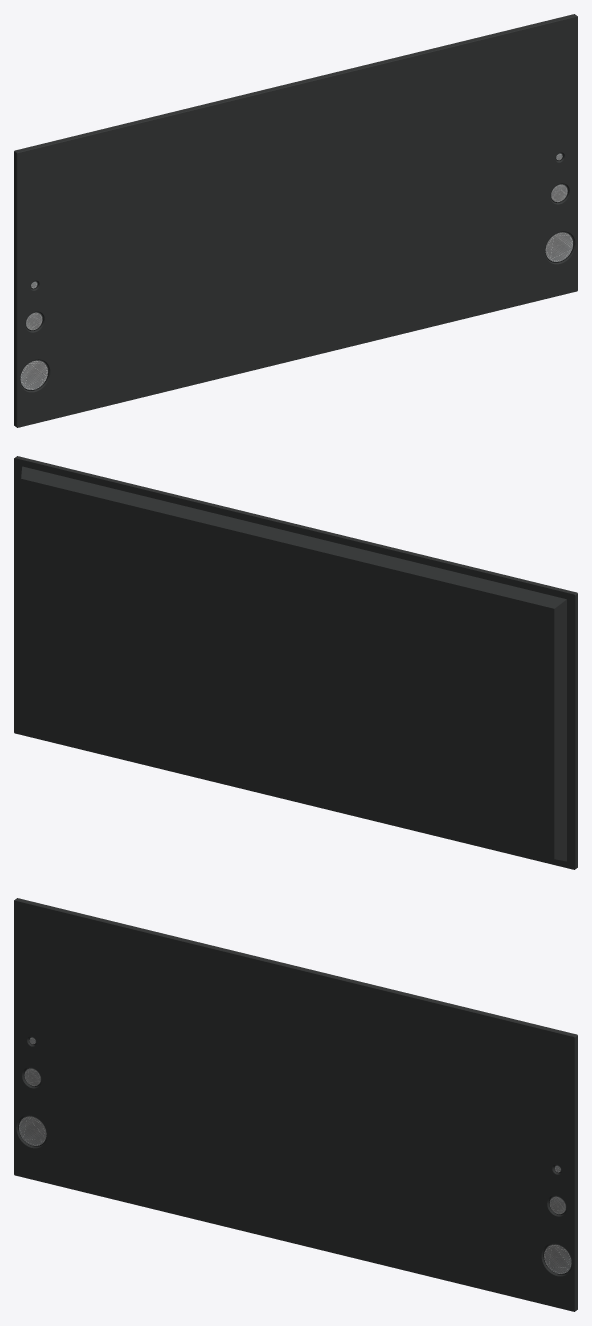
Rendered from display.glb.
3 views of the same model, one above another, from view 1: azimuth 30°, elevation 25°; view 2: azimuth 150°, elevation 25°; view 3: azimuth 330°, elevation 25° (orthographic).
Visible parts, largest first — view 1: Plane; view 2: Plane; view 3: Plane.
Part boxes in pixels (x1=…): Plane: x1=14, y1=14, x2=577, y2=427; Plane: x1=14, y1=456, x2=577, y2=869; Plane: x1=14, y1=898, x2=577, y2=1311.
Size of the model in its own units: 29.87 by 14 by 0.9045.
2 materials, 1 textured.
